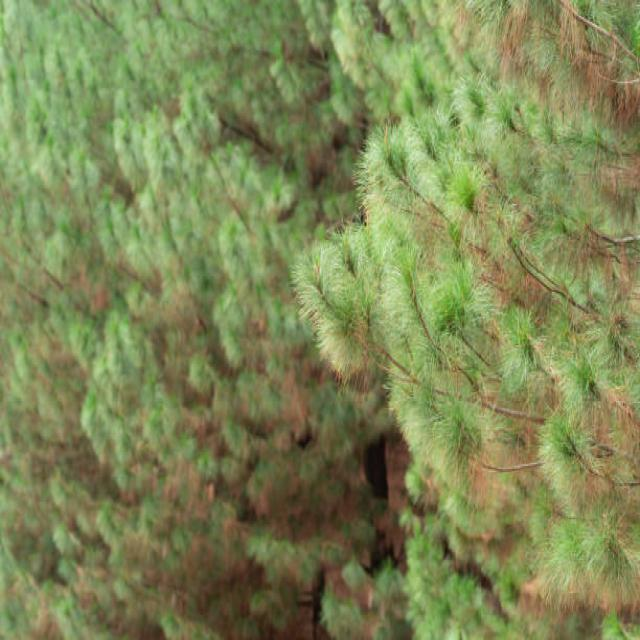Pine: (189, 46, 640, 634), (286, 165, 640, 598), (0, 55, 342, 450)
